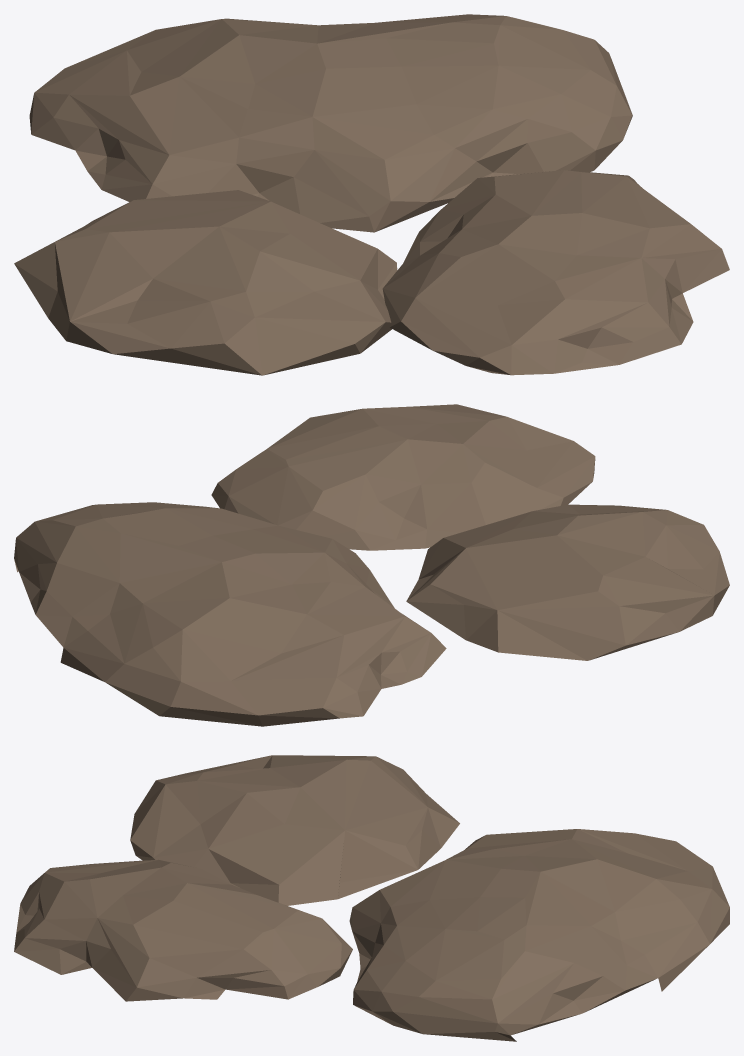
The model's file is rock3.fbx.
The picture shows the model from 3 angles, top to bottom: view 1: azimuth 30°, elevation 25°; view 2: azimuth 150°, elevation 25°; view 3: azimuth 270°, elevation 25°; orthographic projection. The views are drawn at different scales.
Parts seen in each view (by area): view 1: basic_rock.003; view 2: basic_rock.003; view 3: basic_rock.003.
Boxes of the visible parts, left/top/right/bottom form: basic_rock.003: left=14, top=14, right=729, bottom=375; basic_rock.003: left=14, top=404, right=729, bottom=726; basic_rock.003: left=14, top=755, right=729, bottom=1041.
Bounding box in the file's own units: 185 × 23.63 × 206.
